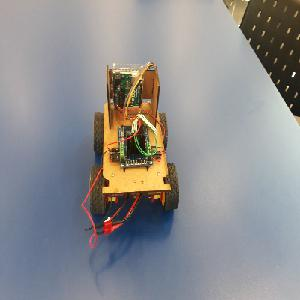Robot: (90, 61, 180, 217)
